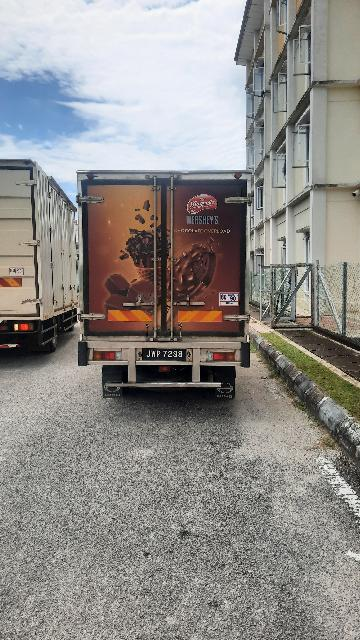License_Plate: (144, 346, 194, 367)
lorry: (70, 159, 263, 413)
